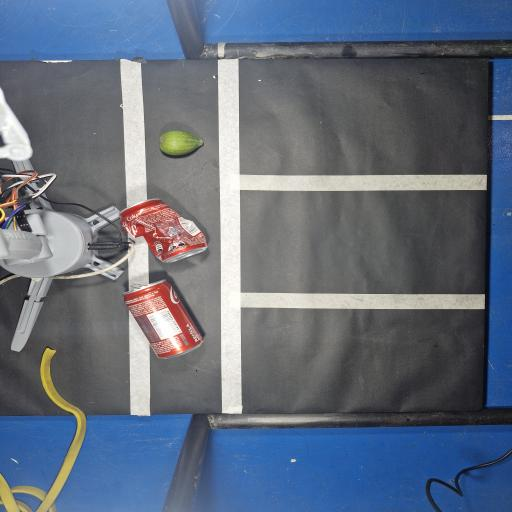higo: (159, 131, 203, 155)
lata: (123, 280, 203, 358)
lata_defectuoso: (121, 199, 207, 263)
